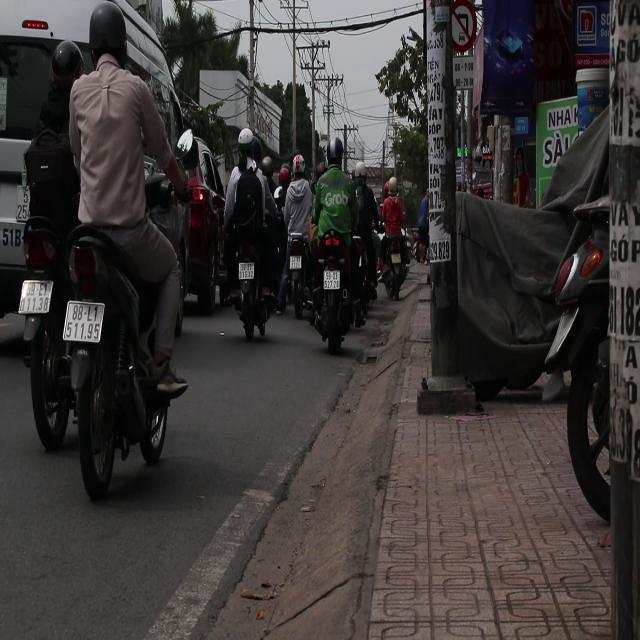car: (0, 0, 208, 367), (174, 118, 239, 316)
motorbike: (61, 116, 207, 514), (13, 205, 82, 461), (225, 180, 286, 352), (310, 218, 368, 355), (278, 199, 314, 344), (381, 228, 424, 307), (377, 229, 414, 301)
